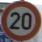20 km speed: (1, 1, 41, 42)
